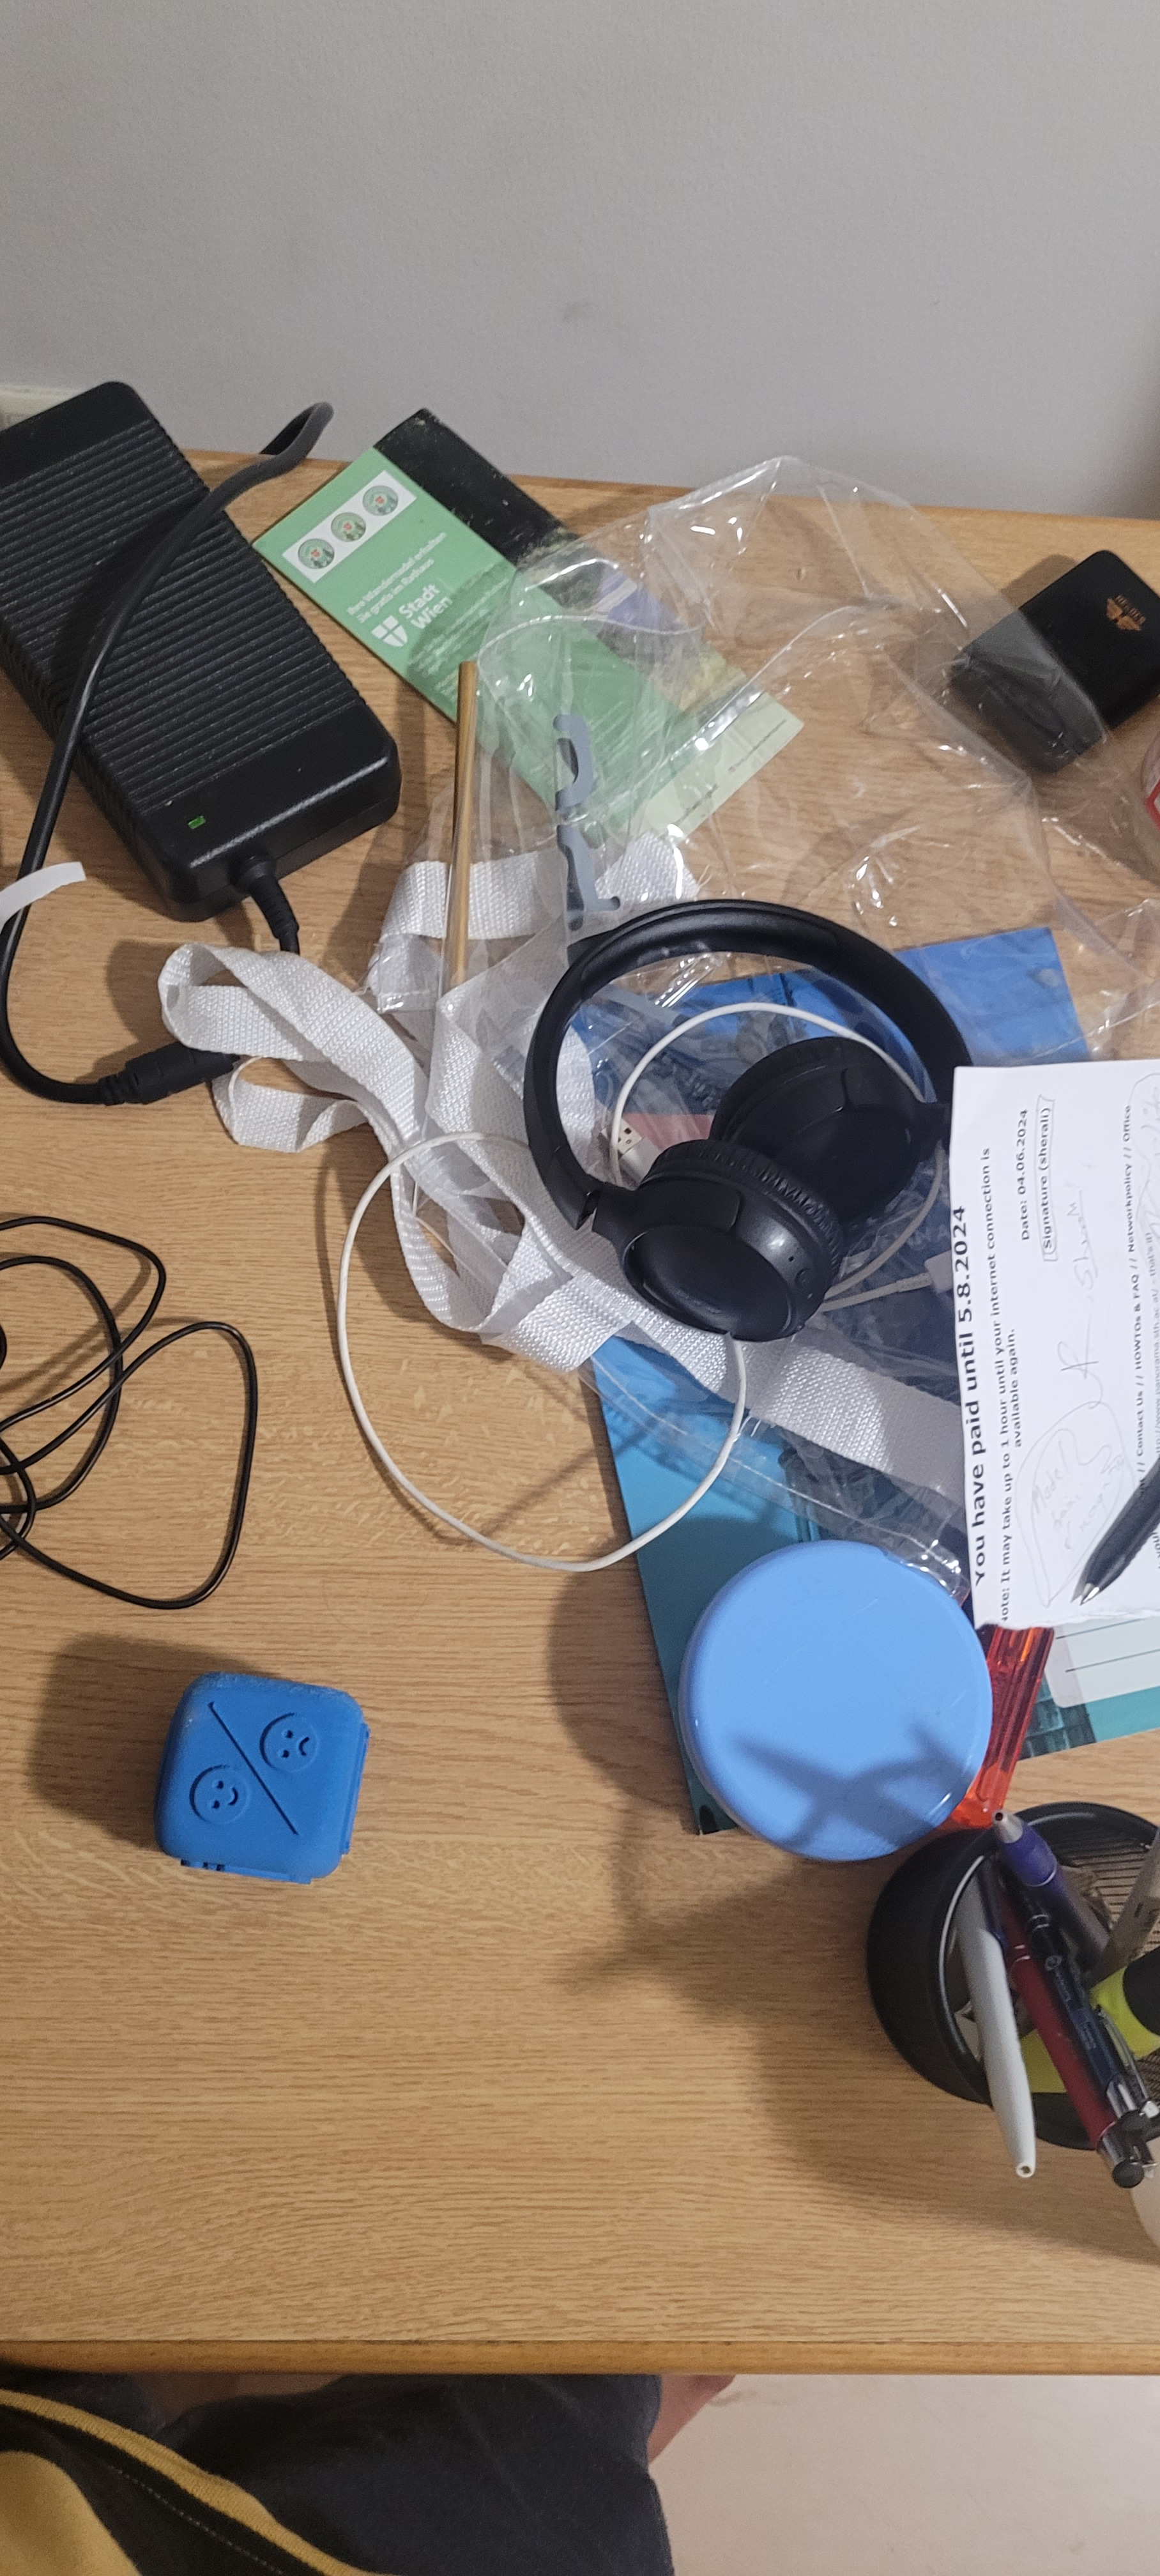Like/Dislike: (164, 1679, 380, 1855)
